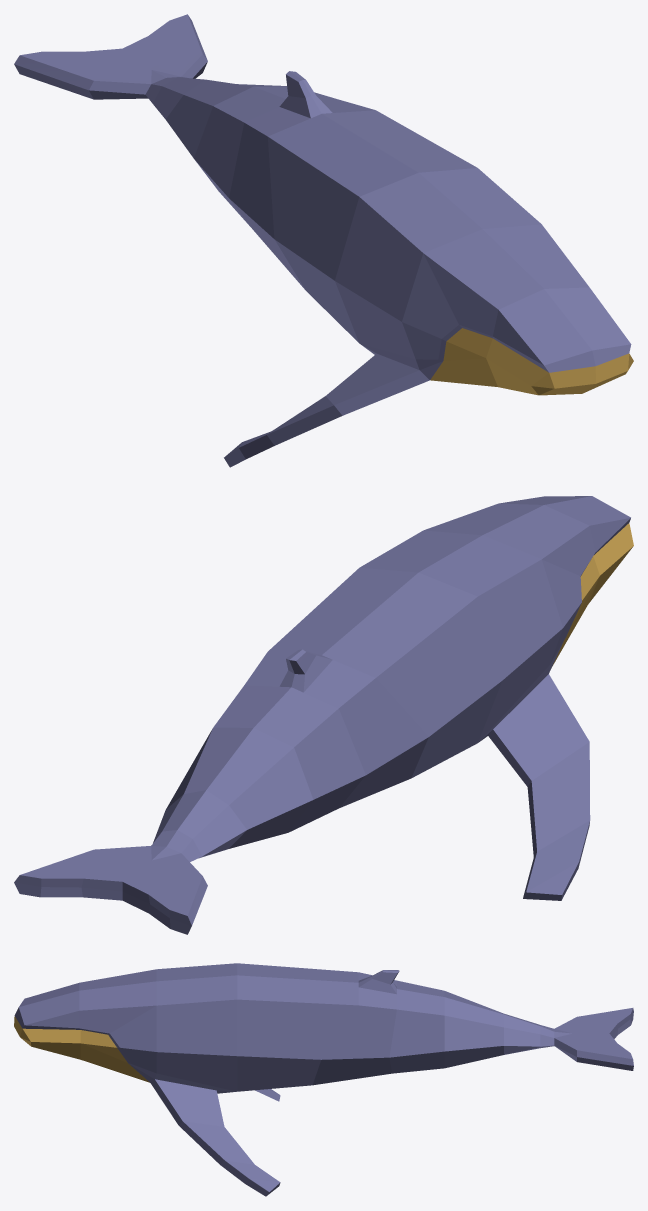
Rendered from whale.glb.
3 renders of one model, top to bottom at view 1: azimuth 30°, elevation 25°; view 2: azimuth 150°, elevation 25°; view 3: azimuth 270°, elevation 25°, orthographic. The views are drawn at different scales.
Visible parts, largest first — view 1: Whale; view 2: Whale; view 3: Whale.
Boxes of the visible parts, x1=… form: Whale: x1=14, y1=14, x2=633, y2=467; Whale: x1=14, y1=496, x2=633, y2=934; Whale: x1=14, y1=963, x2=633, y2=1196.
Size of the model in its own units: 4.06 by 3.19 by 10.19.
